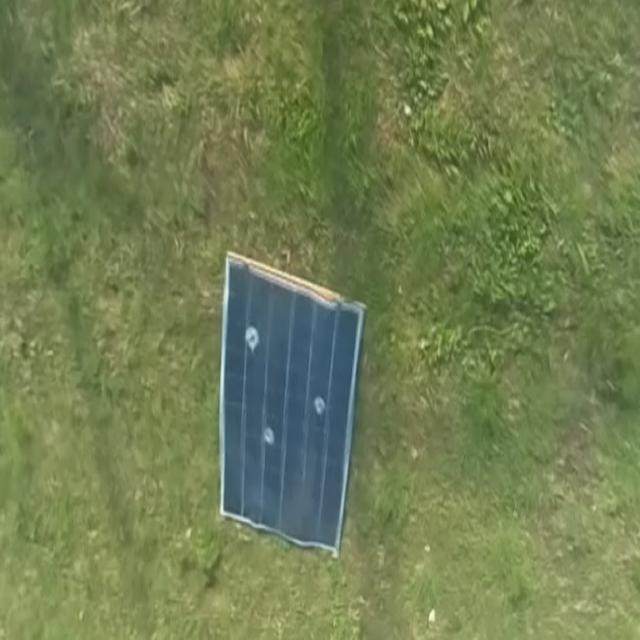Bird-drop: (242, 320, 266, 358), (310, 387, 326, 418), (263, 419, 276, 455)
